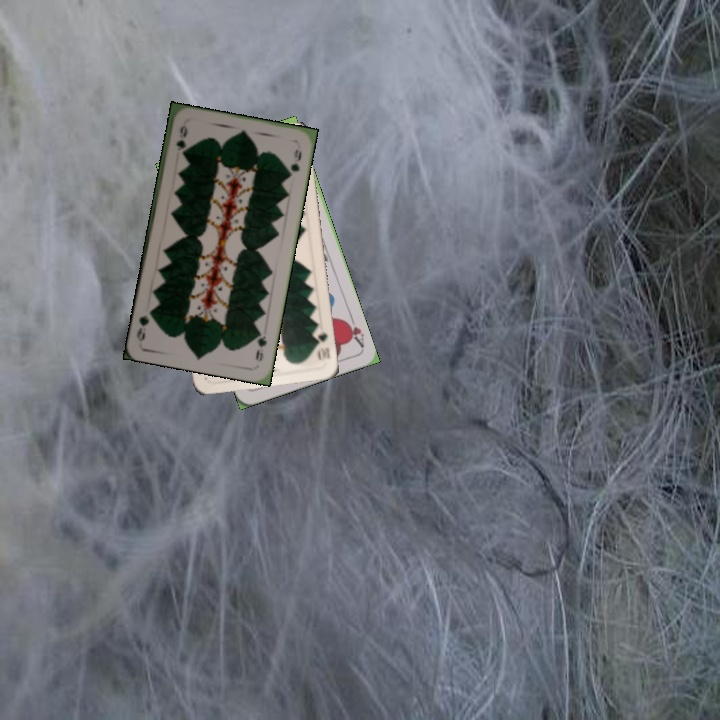G10: (310, 324, 333, 364)
G9: (251, 326, 269, 363), (172, 121, 190, 157)
HA: (340, 311, 367, 351)
